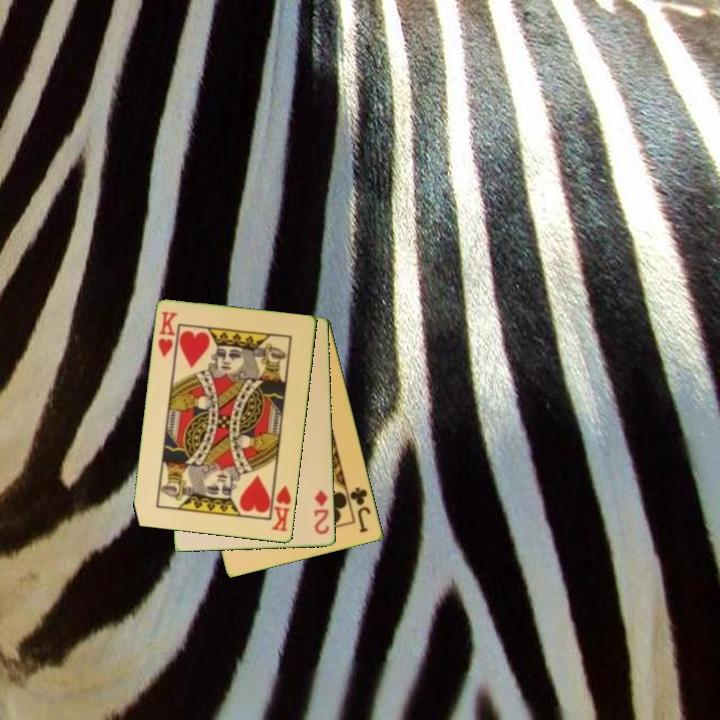2d: (311, 487, 332, 538)
Jc: (347, 483, 374, 536)
Kh: (267, 479, 294, 535), (155, 308, 181, 360)
